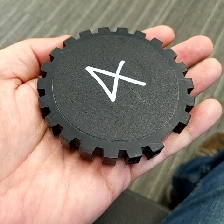gear: (35, 25, 196, 167)
missing: (147, 109, 192, 161)
